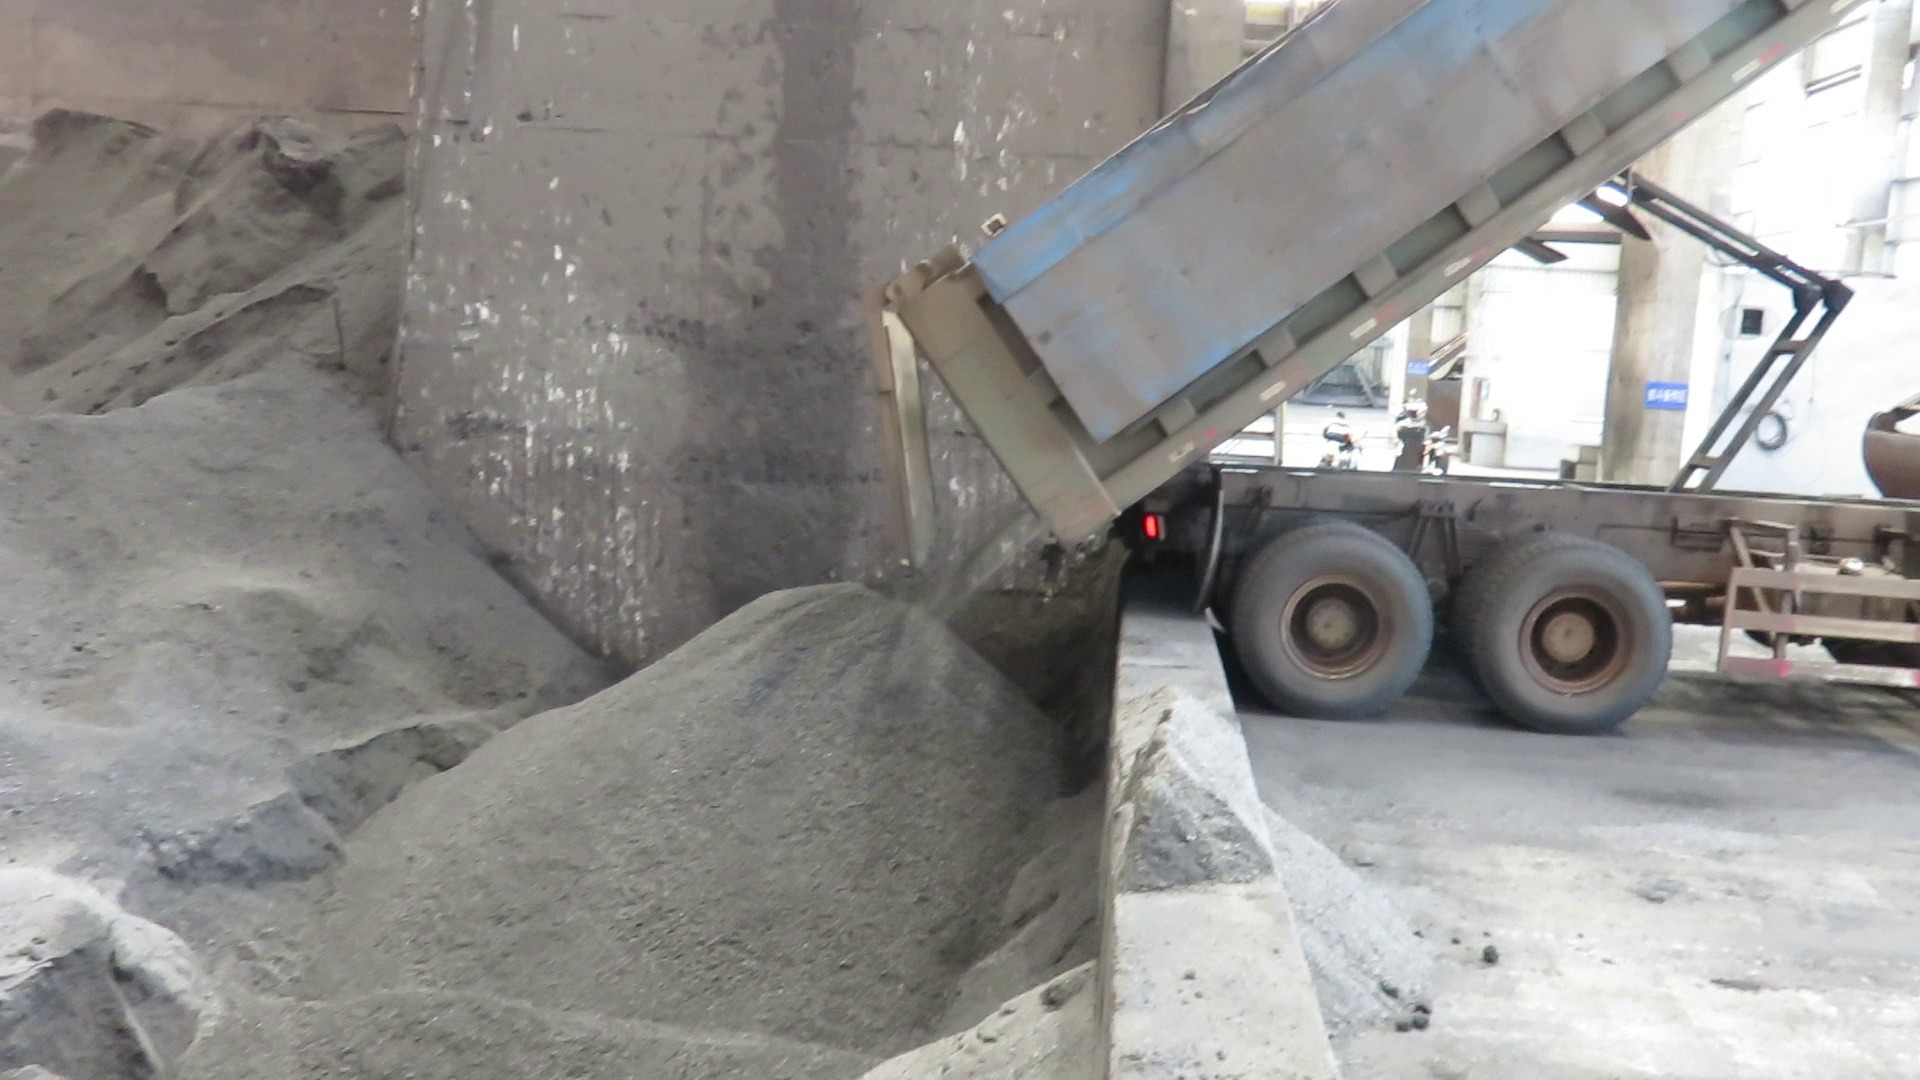truck: (862, 0, 1920, 735)
